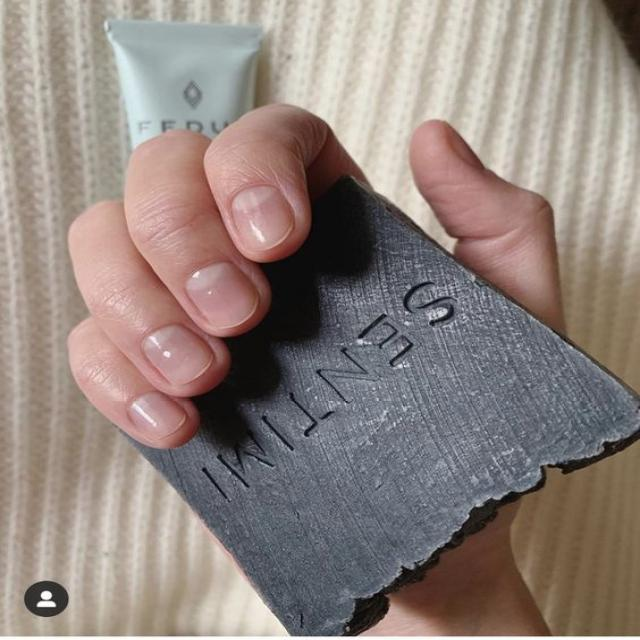Fingernail: (184, 262, 259, 328), (142, 324, 213, 385), (232, 185, 294, 251), (128, 392, 186, 441)
